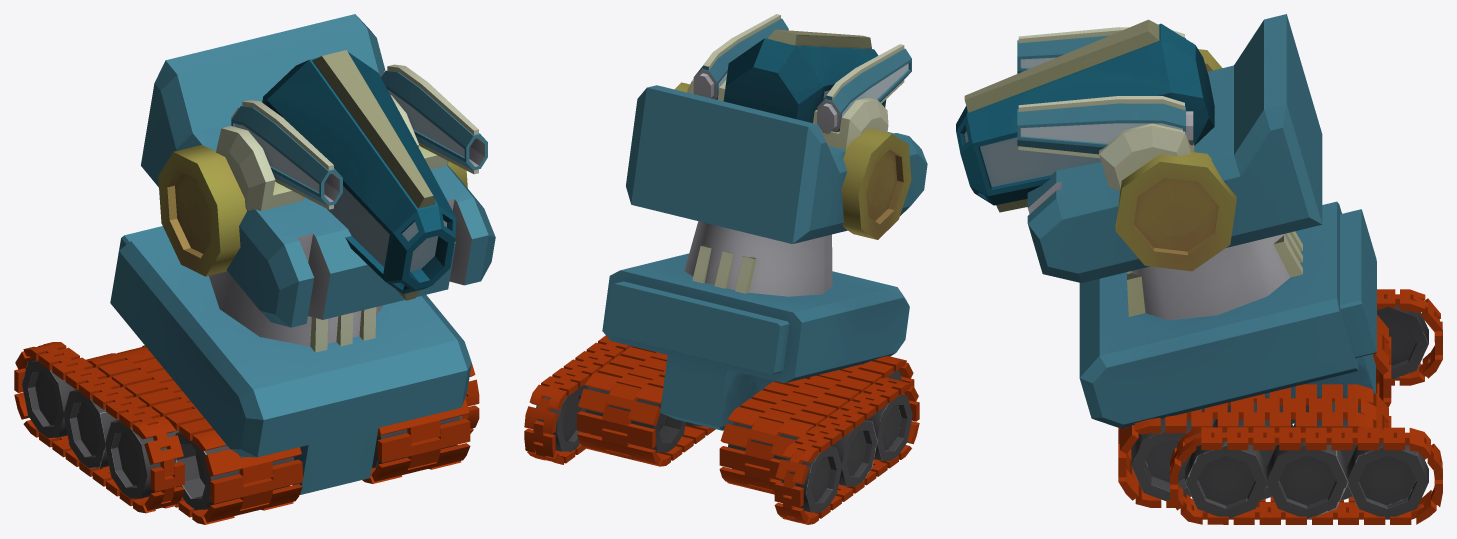
Rendered from player_move_2_upgrade10.obj.
3 views of the same model, side by side, from view 1: azimuth 30°, elevation 25°; view 2: azimuth 150°, elevation 25°; view 3: azimuth 270°, elevation 25° (orthographic). The views are drawn at different scales.
Parts seen in each view (by area): view 1: Object004, Object012, Box038, Box043, Object013, Box042, Object011, Box044; view 2: Object004, Box038, Box042, Box043, Object012, Object013, Box044, Object011, Object014; view 3: Object004, Object014, Box044, Object012, Box042, Object011, Object013, Box043, Box038.
Part boxes in pixels (left/top/right/bottom): Object004: left=110, top=14, right=495, bottom=494; Object012: left=231, top=64, right=487, bottom=209; Box038: left=85, top=345, right=302, bottom=524; Box043: left=14, top=342, right=184, bottom=513; Object013: left=22, top=359, right=175, bottom=498; Box042: left=362, top=398, right=470, bottom=483; Object011: left=169, top=416, right=461, bottom=509; Box044: left=461, top=364, right=479, bottom=433; Object004: left=602, top=29, right=927, bottom=430; Box038: left=719, top=356, right=914, bottom=494; Box042: left=577, top=346, right=715, bottom=466; Box043: left=774, top=377, right=919, bottom=524; Object012: left=693, top=14, right=911, bottom=133; Object013: left=781, top=394, right=912, bottom=512; Box044: left=524, top=335, right=632, bottom=464; Object011: left=585, top=370, right=901, bottom=480; Object014: left=536, top=384, right=590, bottom=451; Object004: left=956, top=14, right=1376, bottom=428; Object014: left=1185, top=431, right=1428, bottom=519; Box044: left=1170, top=427, right=1442, bottom=524; Object012: left=1017, top=27, right=1193, bottom=158; Box042: left=1118, top=384, right=1391, bottom=507; Object011: left=1131, top=394, right=1360, bottom=500; Object013: left=1376, top=297, right=1428, bottom=379; Box043: left=1377, top=289, right=1442, bottom=385; Box038: left=1372, top=315, right=1391, bottom=407.
Bounding box in the file's own units: 139 × 180 × 187.
Materials: 4 (2 with a texture image).
